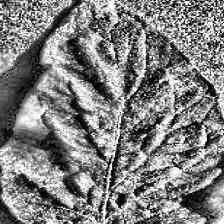spider mites: (0, 0, 224, 224), (206, 111, 207, 112)
